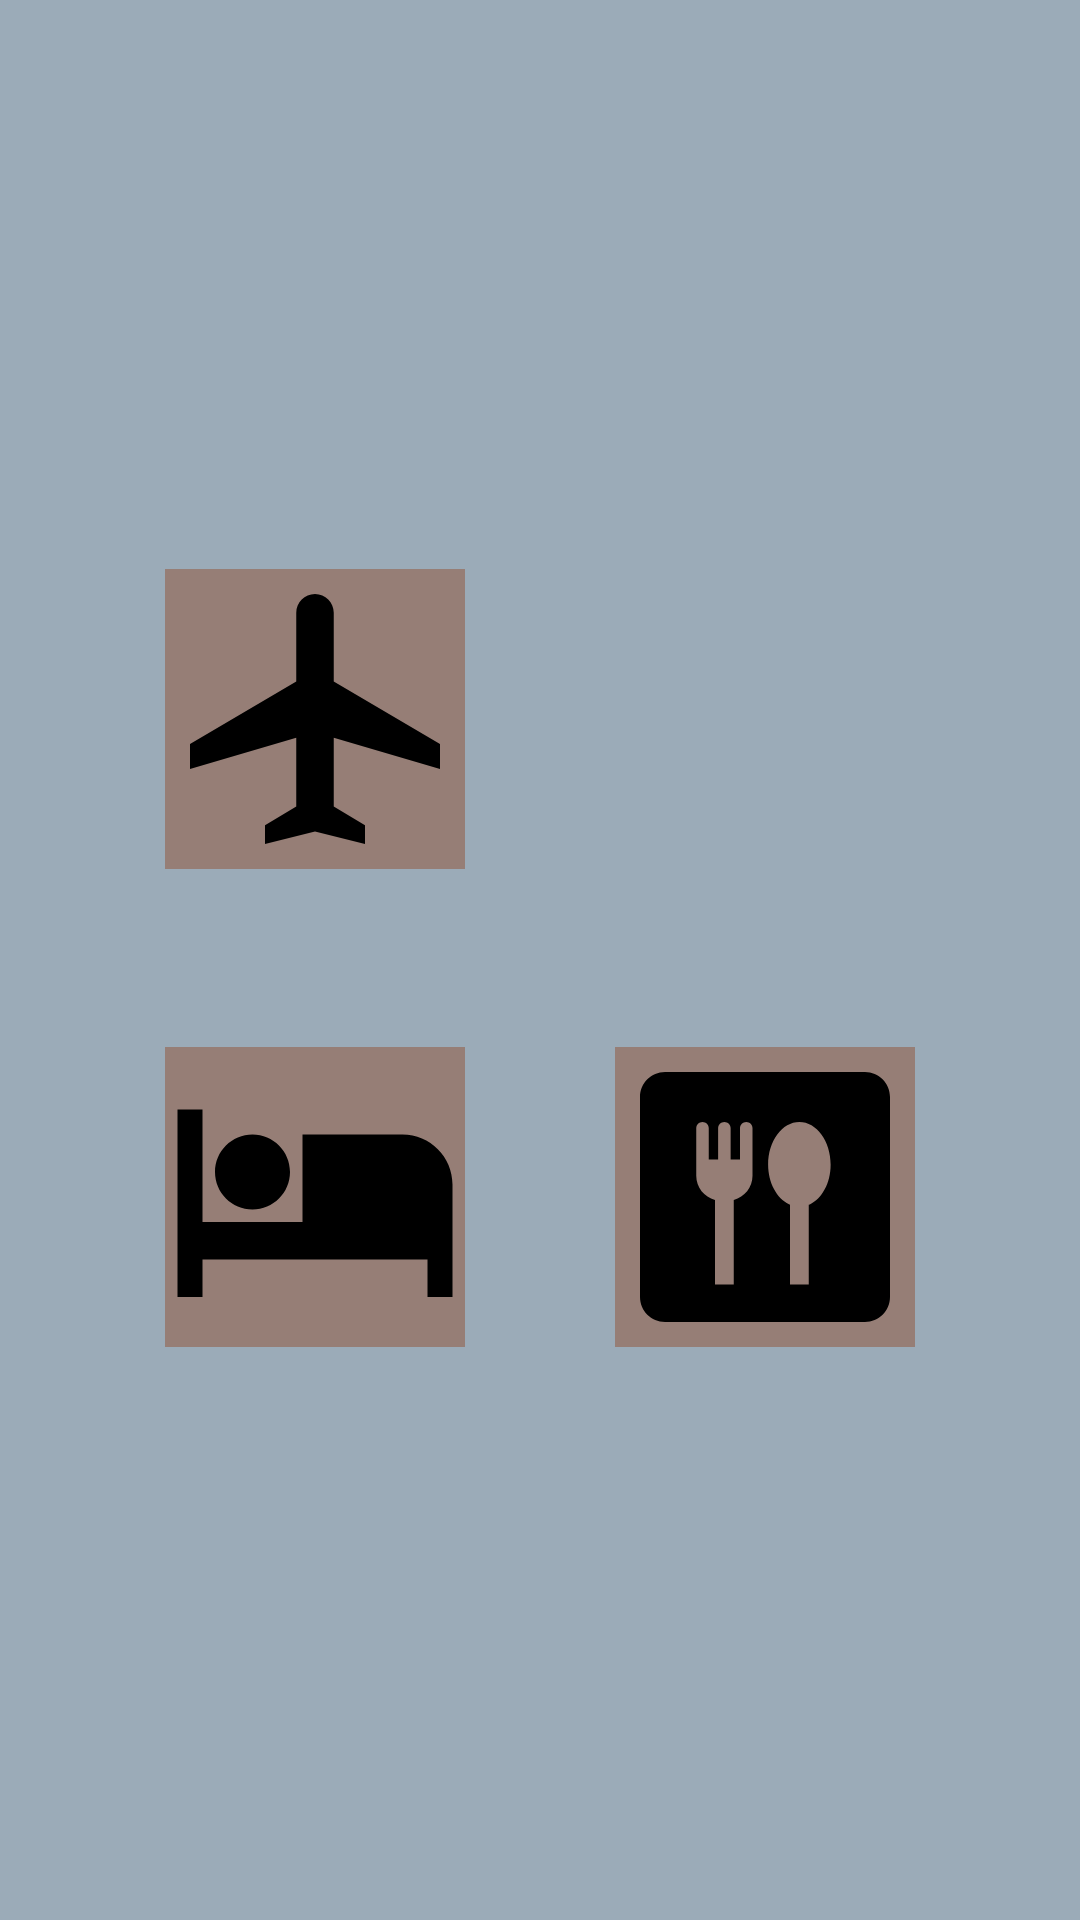

Locate icon controls on the screen. Image size 1080x1920, boxes as (x1, y1, x2, y2).
Icono que muestra dos utencilios, un tenedor y una cuchara: (615, 1047, 915, 1347)
Icono que representa la silueta de un avión: (165, 569, 465, 869)
Icono que representa una persona recostada en una cama: (165, 1047, 465, 1347)
